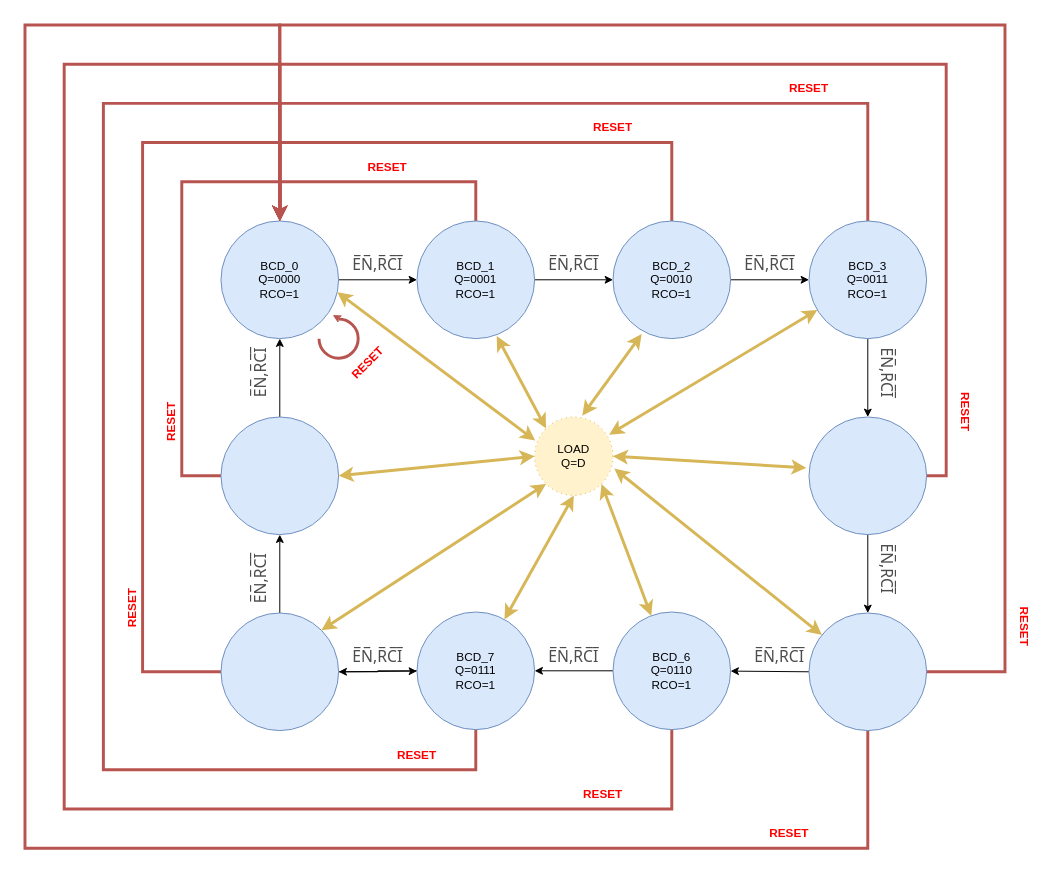
Some shapes in this 1056 by 874 pixel diagram are drawn without their labels. Each missing label, with the box of its shape:
BCD_4 Q=0100 RCO=1: (808, 416, 927, 535)
BCD_5 Q=0101 RCO=1: (808, 612, 927, 731)
BCD_8 Q=1000 RCO=1: (220, 612, 339, 731)
BCD_9 Q=1001 RCO=0: (220, 416, 339, 535)
